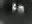person: (20, 6, 26, 16), (12, 4, 17, 14), (18, 5, 22, 15)
